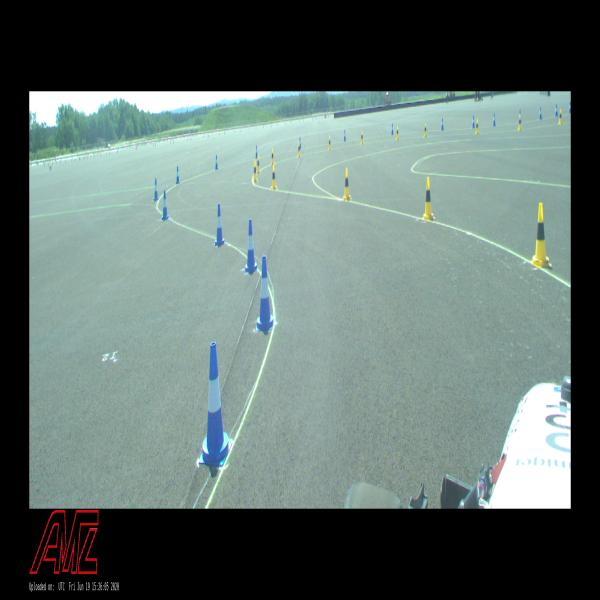blue_cone: (199, 342, 232, 466), (256, 255, 274, 331), (244, 220, 257, 274), (214, 204, 225, 247), (161, 190, 169, 221), (154, 178, 159, 201), (214, 154, 219, 170), (176, 166, 180, 184), (493, 113, 496, 126), (472, 115, 475, 128), (555, 104, 558, 116), (441, 118, 444, 130), (539, 107, 542, 119), (391, 123, 394, 135), (255, 146, 258, 158), (344, 130, 346, 141), (569, 101, 570, 113), (300, 137, 301, 149), (519, 110, 521, 115)
yellow_cone: (530, 203, 552, 267), (422, 178, 435, 220), (342, 168, 352, 200), (271, 164, 277, 189), (252, 160, 258, 182), (256, 155, 260, 174), (270, 149, 274, 165), (558, 109, 562, 124), (297, 142, 301, 157), (328, 136, 332, 150), (475, 120, 479, 134), (518, 115, 521, 130), (361, 131, 364, 144), (396, 126, 399, 139), (424, 123, 426, 137)
